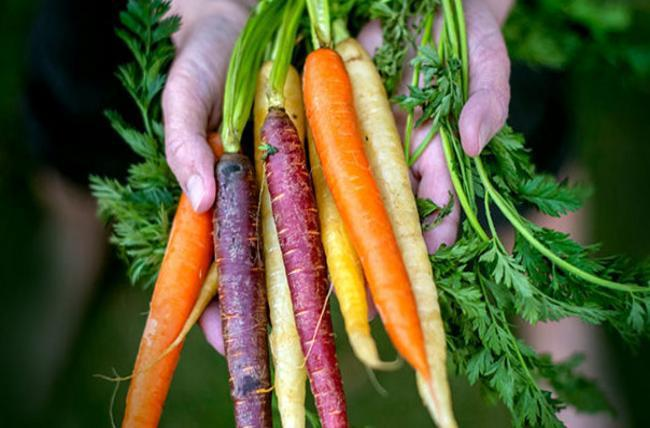carrot: (316, 35, 439, 408), (151, 183, 204, 428)
